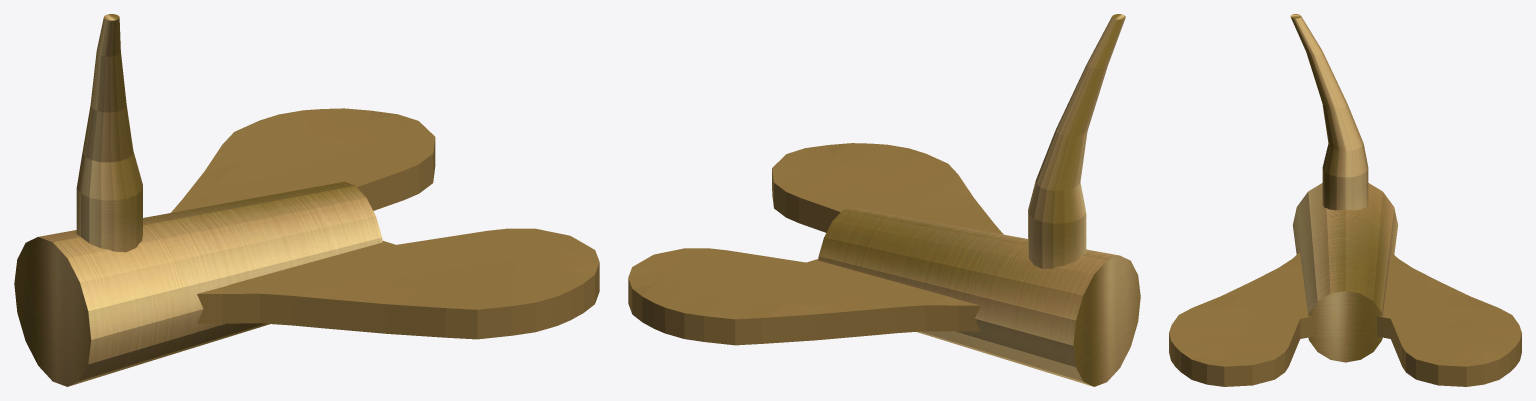
The model's file is ecrouCentre.dae.
3 views of the same model, side by side, from view 1: azimuth 30°, elevation 25°; view 2: azimuth 150°, elevation 25°; view 3: azimuth 270°, elevation 25° (orthographic). The views are drawn at different scales.
Parts seen in each view (by area): view 1: Oreilles.002, Zcrou, Cylinder; view 2: Oreilles.002, Zcrou, Cylinder; view 3: Oreilles.002, Zcrou, Cylinder.
Boxes of the visible parts, x1=… form: Oreilles.002: x1=171, y1=108, x2=599, y2=339; Zcrou: x1=14, y1=181, x2=382, y2=386; Cylinder: x1=76, y1=14, x2=142, y2=252; Oreilles.002: x1=628, y1=143, x2=1003, y2=345; Zcrou: x1=818, y1=207, x2=1140, y2=386; Cylinder: x1=1028, y1=14, x2=1125, y2=268; Oreilles.002: x1=1169, y1=252, x2=1521, y2=386; Zcrou: x1=1292, y1=183, x2=1398, y2=362; Cylinder: x1=1290, y1=14, x2=1368, y2=210.
Size of the model in its own units: 1.51 by 1.48 by 1.22.
2 materials, 2 textured.
